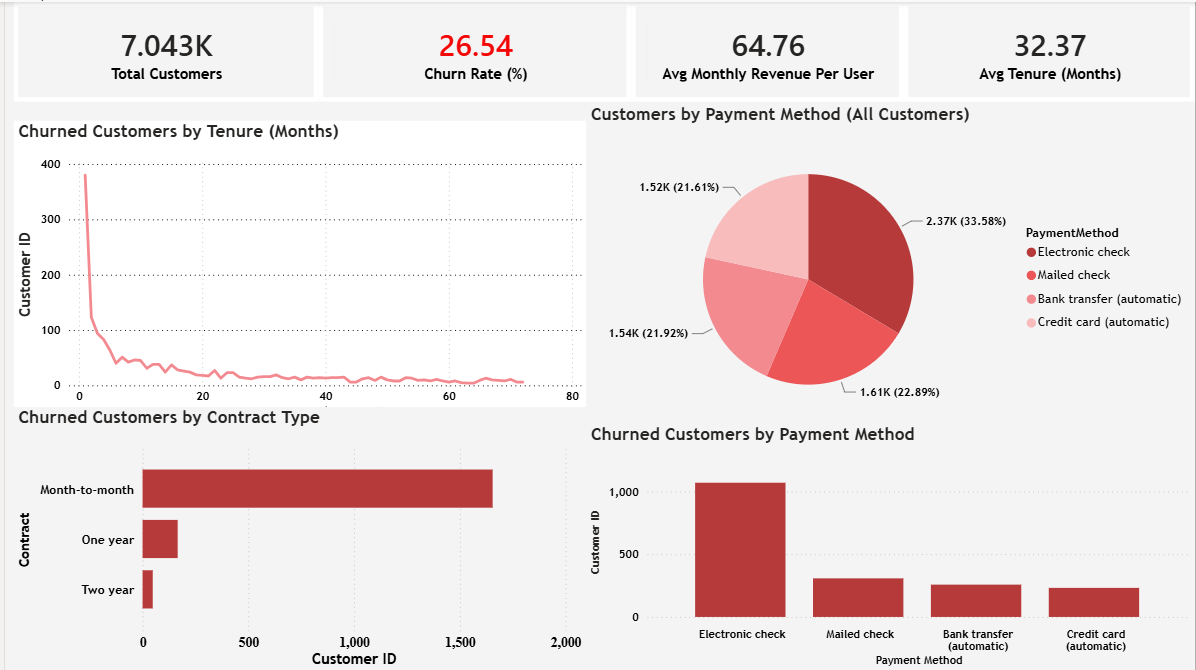

The page's visual inventory and layout, read from the dashboard file:
{"tool":"powerbi","page":{"name":"Overview","canvas":[1280,720],"ordinal":0},"visuals":[{"type":"cardVisual","fields":{"Data":["CountNonNull(Customers Churn Analysis powerBI_30.customerID)"]},"box":[9.6,0,328,107],"z":0},{"type":"cardVisual","fields":{"Data":["Customers Churn Analysis powerBI_30.churn rate"]},"box":[337.6,0,336.2,107],"z":1000},{"type":"cardVisual","fields":{"Data":["Customers Churn Analysis powerBI_30.ARPU"]},"box":[673.8,0,293.7,107],"z":2000},{"type":"cardVisual","fields":{"Data":["Customers Churn Analysis powerBI_30.Average Tenure"]},"box":[966.9,0,313.3,107.6],"z":3000},{"type":"lineChart","title":"Churned Customers by Tenure (Months)","fields":{"Category":["Customers Churn Analysis powerBI_30.tenure"],"Y":["CountNonNull(Customers Churn Analysis powerBI_30.customerID)"]},"box":[9.4,127.8,615.9,328.1],"z":4000},{"type":"clusteredBarChart","title":"Churned Customers by Contract Type","fields":{"Category":["Customers Churn Analysis powerBI_30.Contract"],"Y":["CountNonNull(Customers Churn Analysis powerBI_30.customerID)"]},"box":[9.4,435.7,615.9,285.1],"z":5000},{"type":"pieChart","title":"Customers by Payment Method (All Customers)","fields":{"Category":["Customers Churn Analysis powerBI_30.PaymentMethod"],"Y":["CountNonNull(Customers Churn Analysis powerBI_30.customerID)"]},"box":[625.3,108.3,655,346.5],"z":6000},{"type":"clusteredColumnChart","title":"Churned Customers by Payment Method","fields":{"Category":["Customers Churn Analysis powerBI_30.PaymentMethod"],"Y":["CountNonNull(Customers Churn Analysis powerBI_30.customerID)"]},"box":[625.3,453.2,655,266],"z":7000}]}

Visuals, with their boxes in screenshot pixels (x1, y1, x2, y2), scaled from the page's 1280x720 canvas onto the 1196x670 screenshot:
cardVisual - CountNonNull(Customers Churn Analysis powerBI_30.customerID): [9, 0, 315, 100]
cardVisual - Customers Churn Analysis powerBI_30.churn rate: [315, 0, 630, 100]
cardVisual - Customers Churn Analysis powerBI_30.ARPU: [630, 0, 904, 100]
cardVisual - Customers Churn Analysis powerBI_30.Average Tenure: [903, 0, 1195, 100]
"Churned Customers by Tenure (Months)" lineChart: [9, 119, 584, 424]
"Churned Customers by Contract Type" clusteredBarChart: [9, 405, 584, 669]
"Customers by Payment Method (All Customers)" pieChart: [584, 101, 1195, 423]
"Churned Customers by Payment Method" clusteredColumnChart: [584, 422, 1195, 669]
